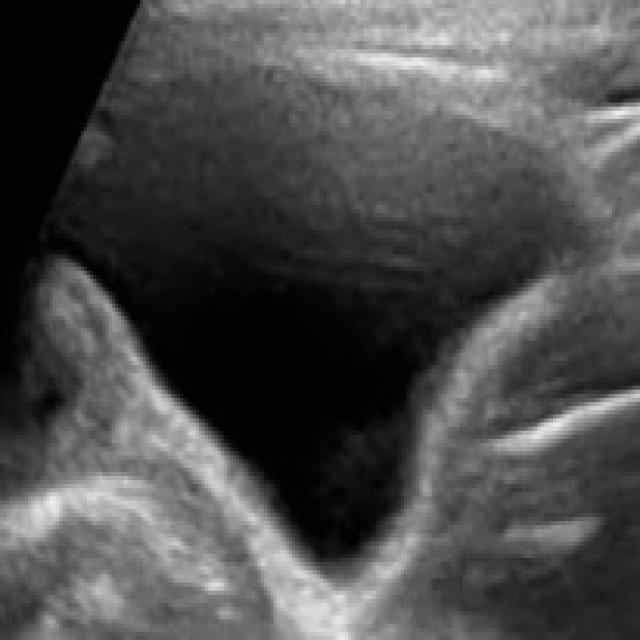bladder: (32, 0, 622, 615)
